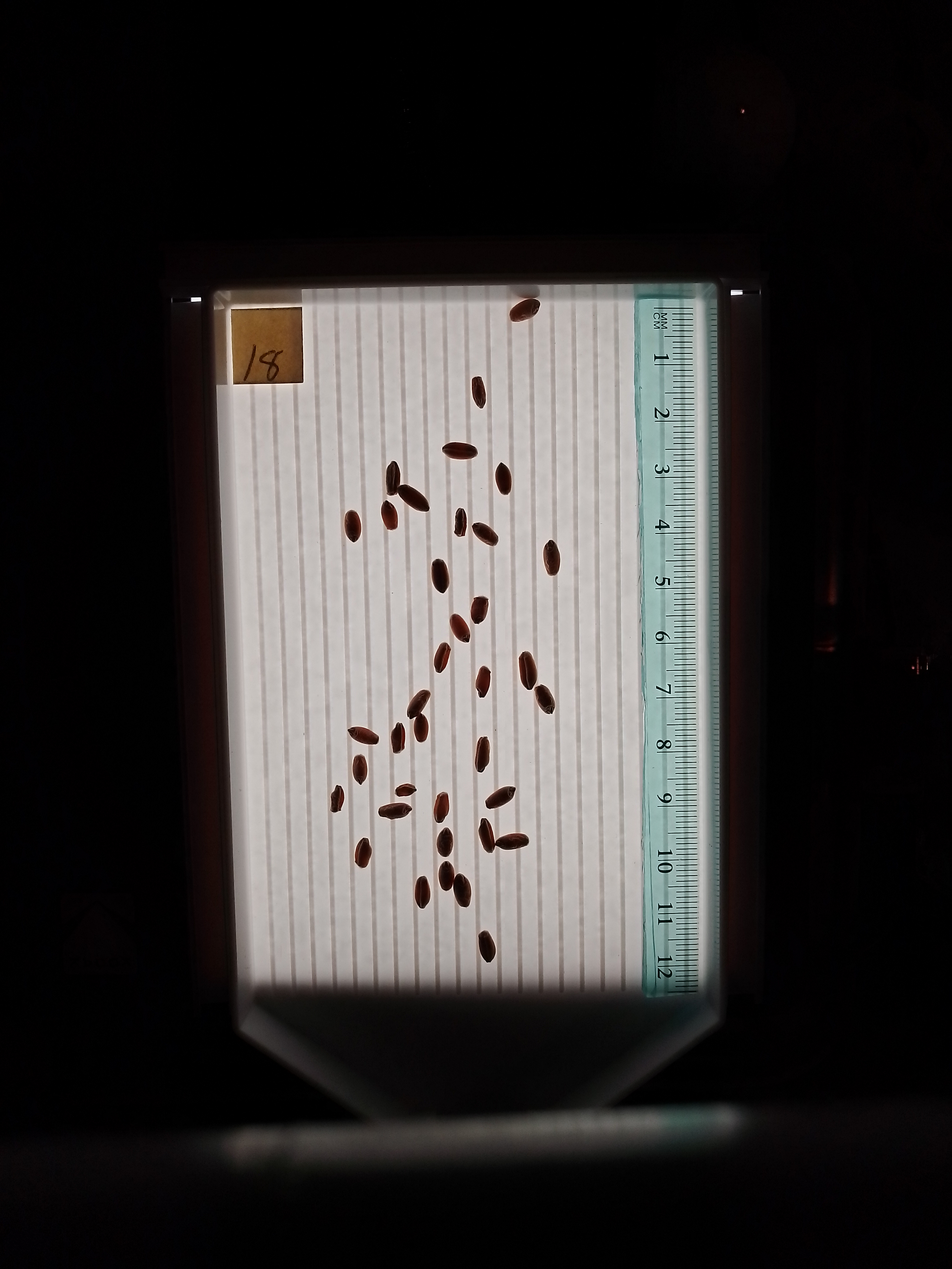seed mask: (396, 484, 429, 512), (510, 298, 540, 322), (519, 652, 537, 690), (486, 787, 515, 809), (443, 441, 476, 460), (408, 690, 430, 718), (454, 874, 472, 908), (495, 833, 529, 851), (535, 685, 555, 714), (432, 559, 449, 593), (543, 541, 560, 575), (473, 523, 498, 546), (478, 931, 496, 962), (349, 726, 378, 745), (379, 802, 411, 819), (354, 838, 372, 868), (475, 737, 490, 773), (450, 615, 470, 642), (479, 819, 495, 852), (344, 511, 361, 542), (470, 597, 489, 624), (415, 876, 431, 908), (495, 464, 512, 494), (381, 502, 398, 530), (476, 667, 491, 697), (352, 755, 368, 783), (434, 644, 450, 672), (387, 463, 401, 495), (434, 793, 449, 822), (437, 829, 453, 856), (413, 715, 429, 742), (439, 863, 454, 891), (472, 378, 486, 407), (391, 724, 405, 753), (330, 786, 344, 812), (454, 510, 467, 535), (395, 783, 415, 798)
